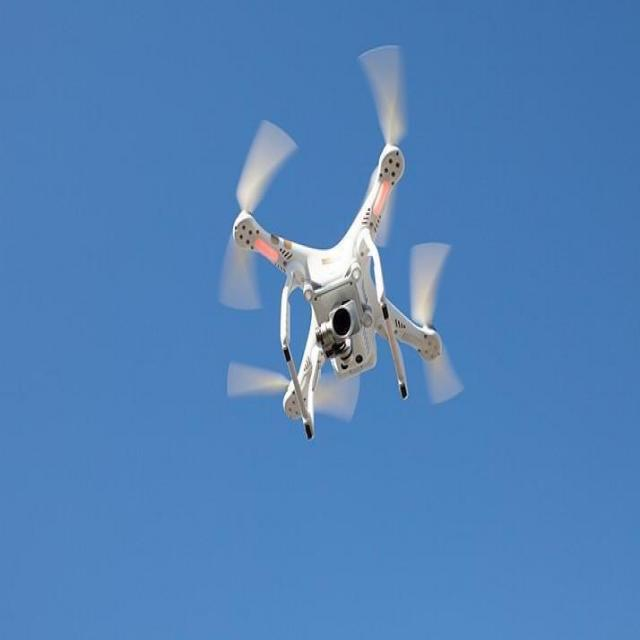UAV: (228, 135, 446, 445)
